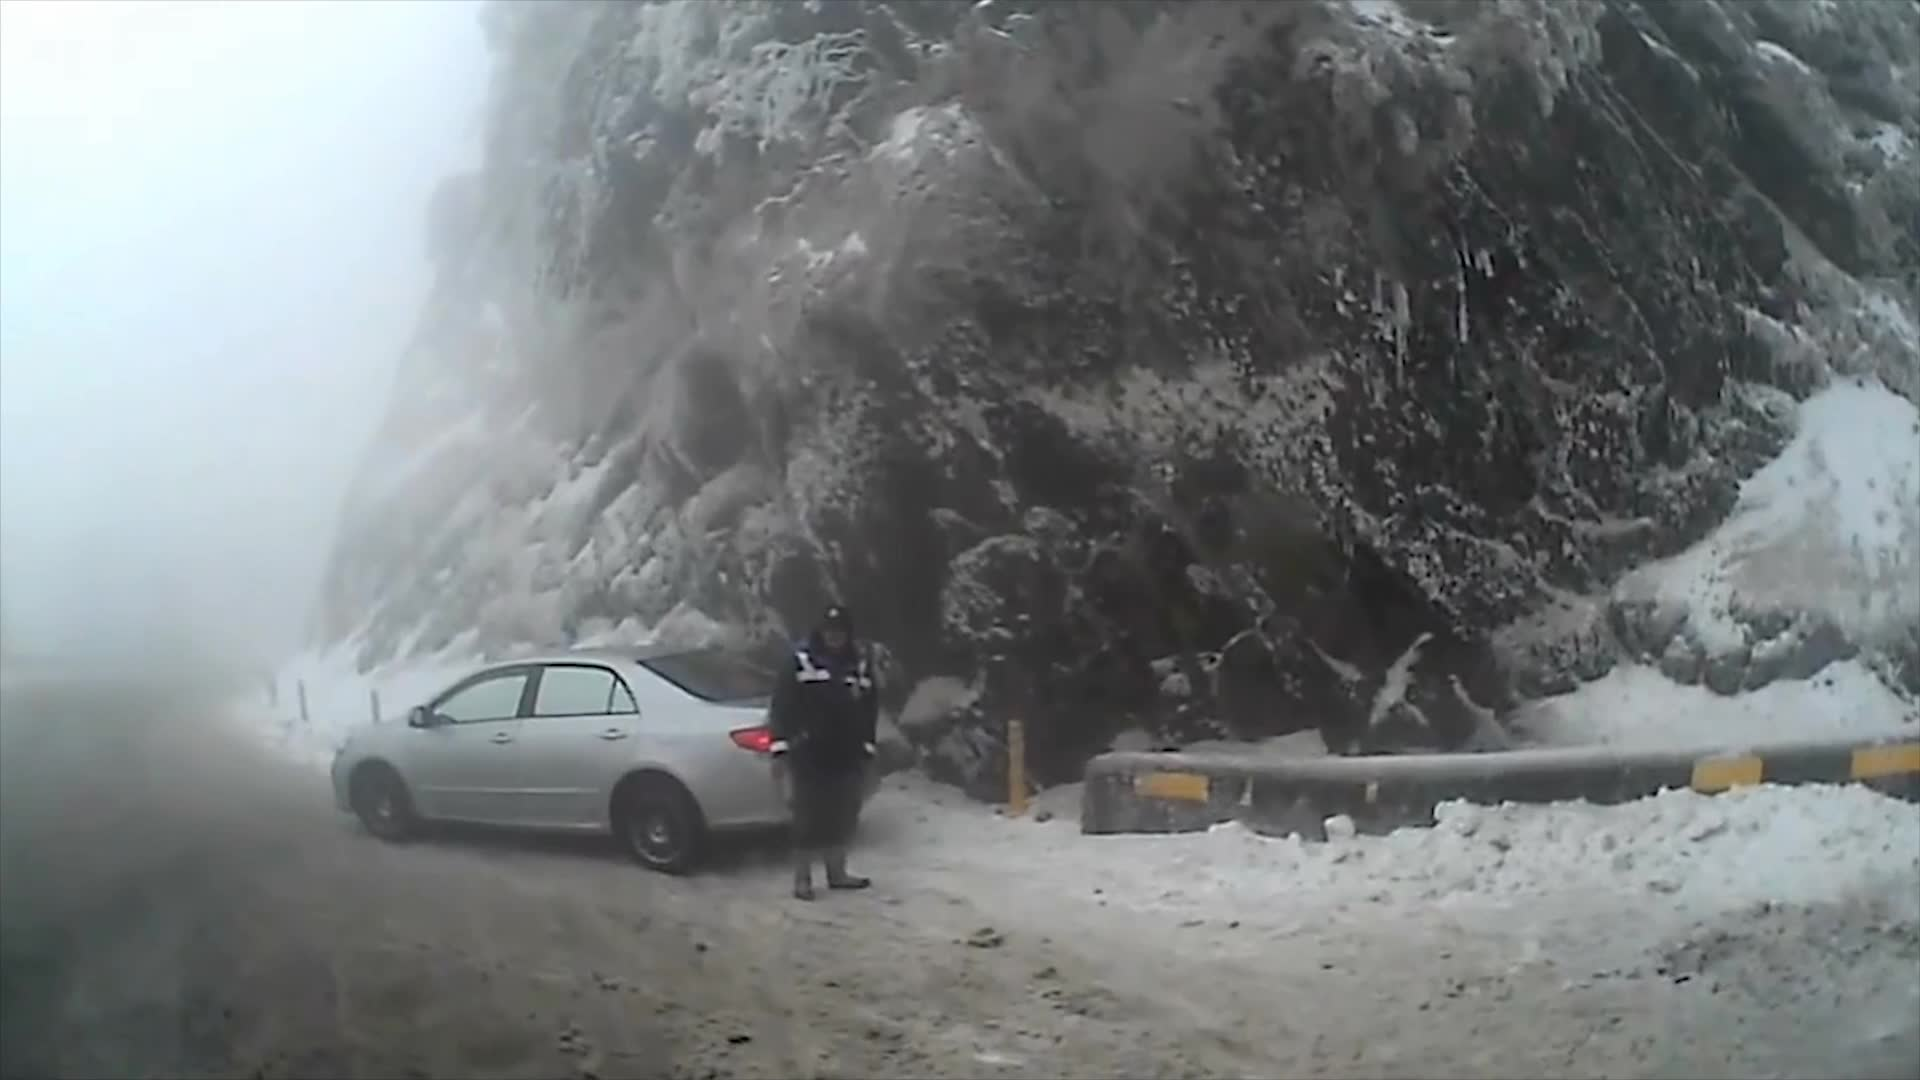pedestrian: (785, 595, 896, 897)
vehicle: (328, 642, 883, 874)
